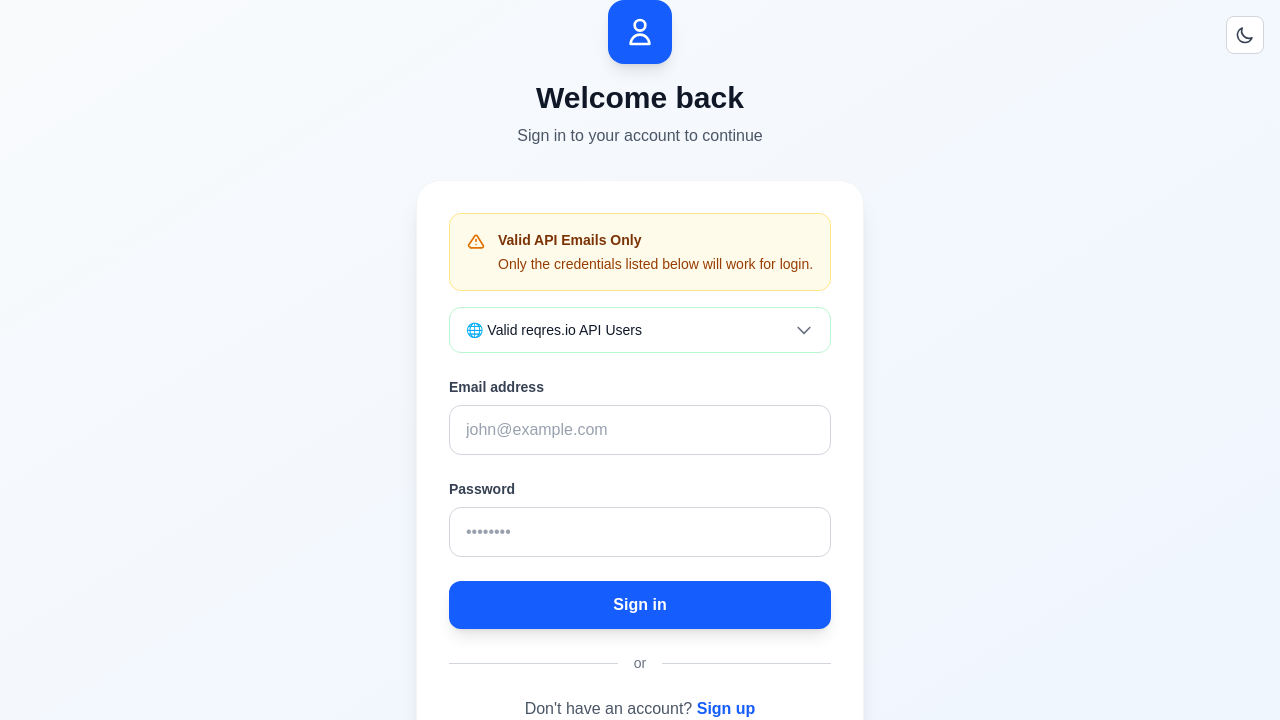
Login Page › should show error message with invalid credentials
The width and height of the screenshot is (1280, 720).
Check: the heading "Welcome back" is shown, box [536,81,744,114]
Check: the password field labelled "Password" is shown, box [449,507,831,557]
Type "invalid@example.com" into the field with id "email" at (640, 430), box [449,405,831,455]
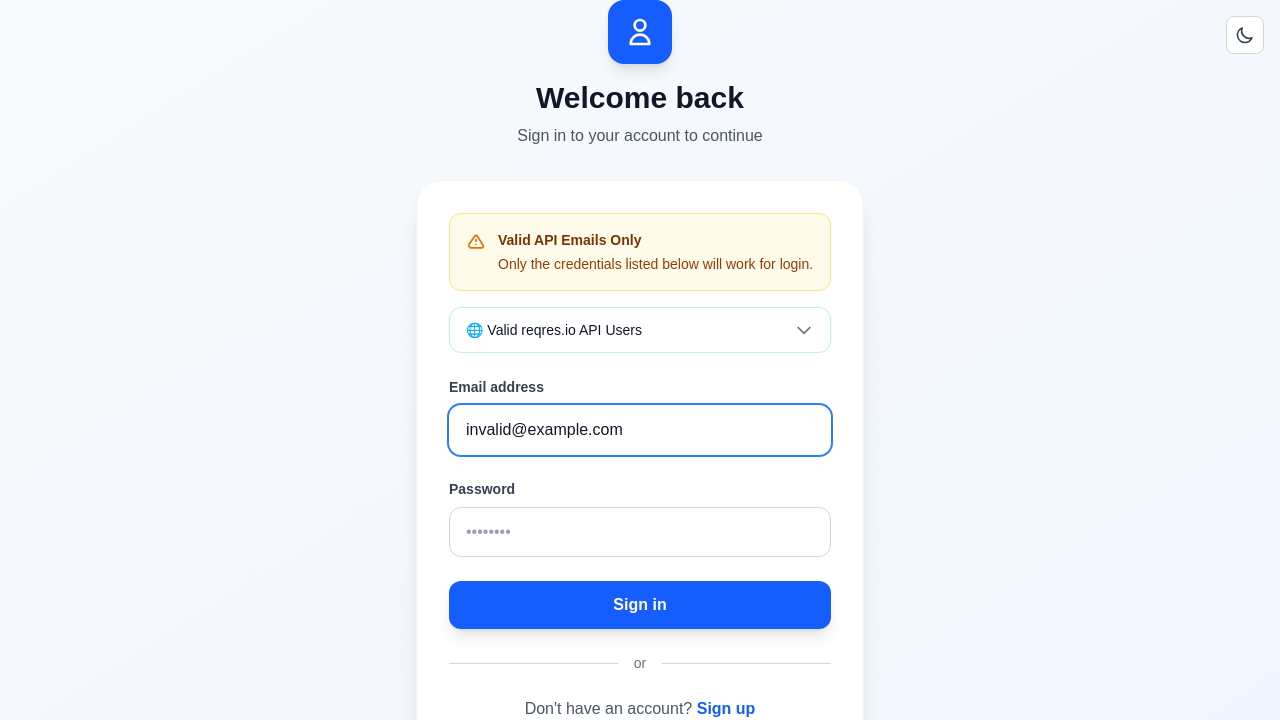
Type "wrongpassword" into the password field labelled "Password" at (640, 532), box [449,507,831,557]
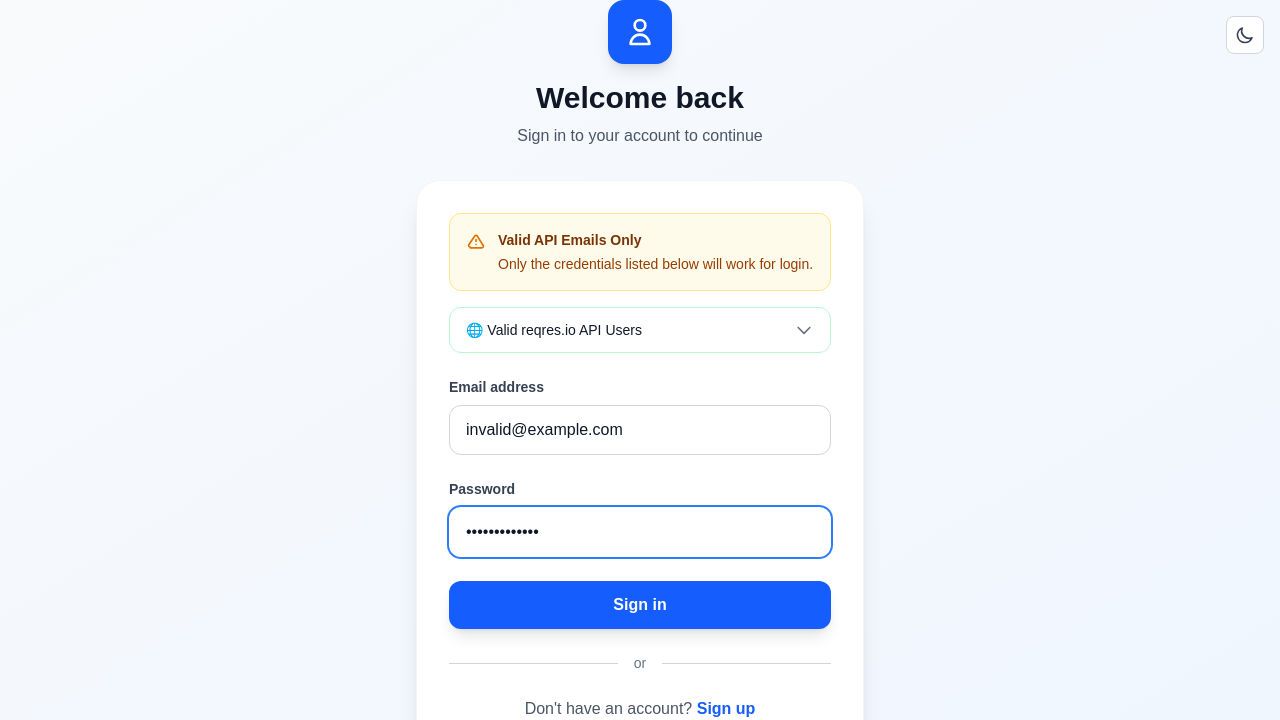
Click the submit button at (640, 605), box [449,581,831,629]
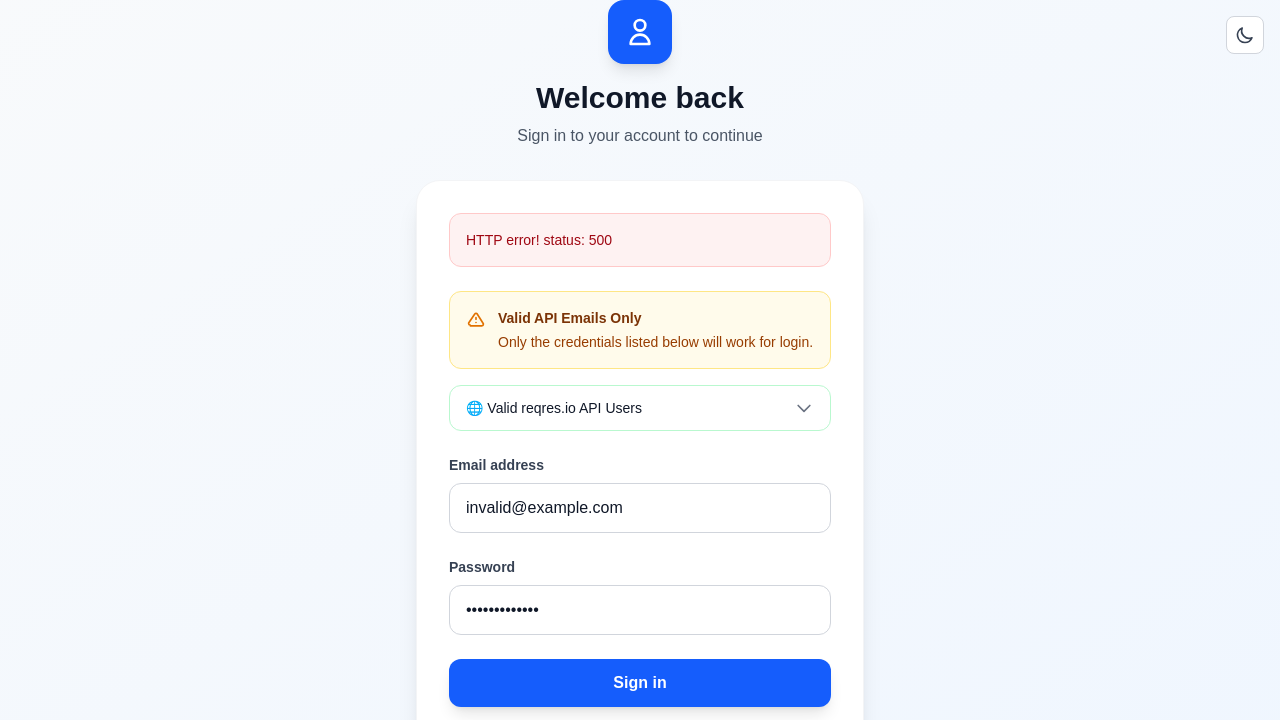
Check: the element showing "HTTP error! status: 500" is shown, box [449,213,831,267]
